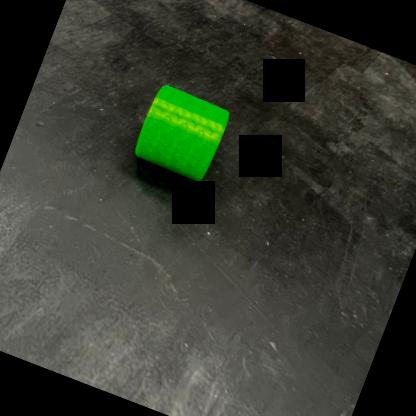green cylinder: (128, 79, 235, 190)
